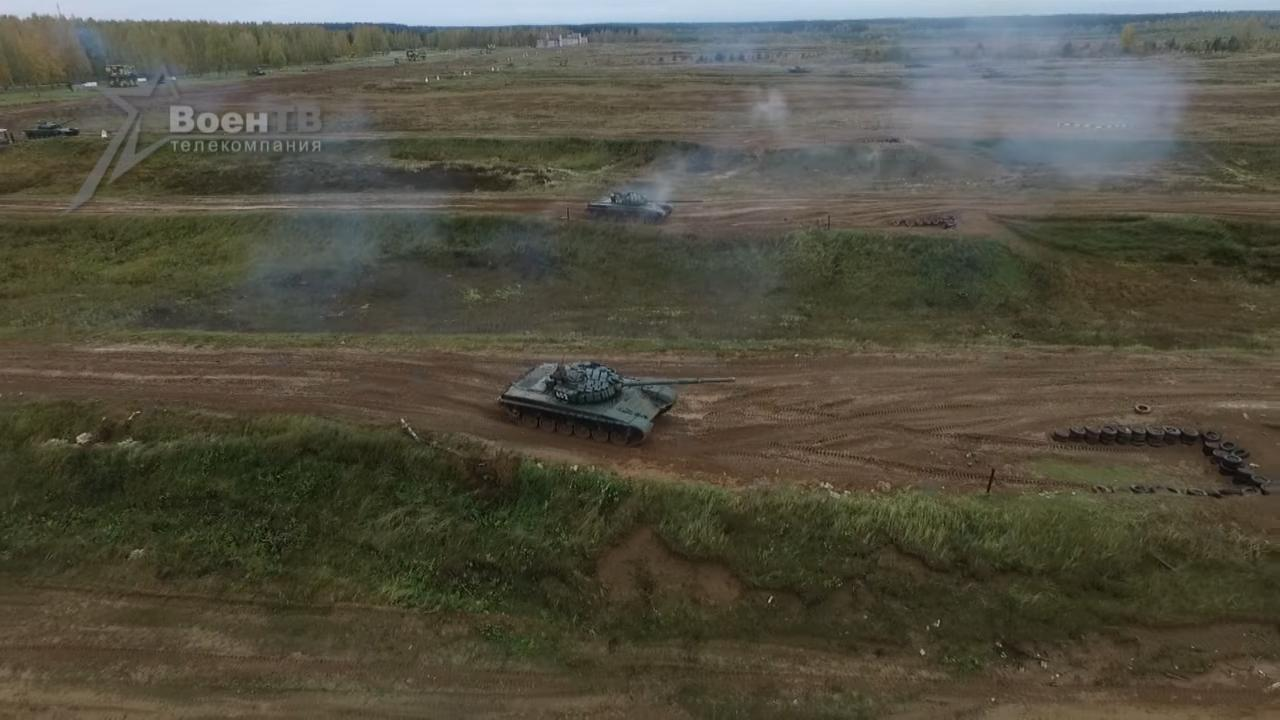tank: (498, 360, 737, 447), (584, 191, 703, 224), (23, 118, 81, 140)
